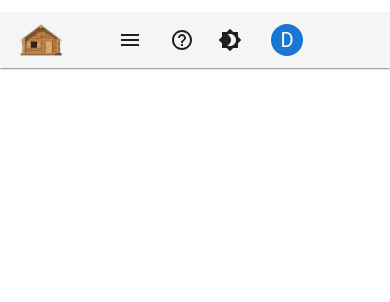
Test: Navbar About Dialog Integration › does not render About & Support in the mobile menu to avoid duplicate links with navbar icon
The width and height of the screenshot is (390, 302).
Note: Open mobile hamburger menu
Click the button named "Open navigation menu" at (130, 40), box [106,16,154,64]
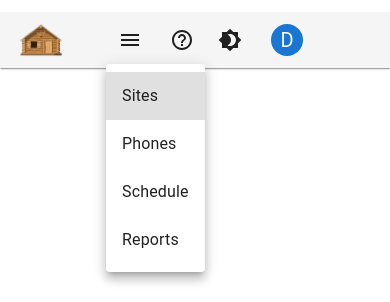
Now the element with id "mobile-menu" is shown, box [106,64,205,272]
